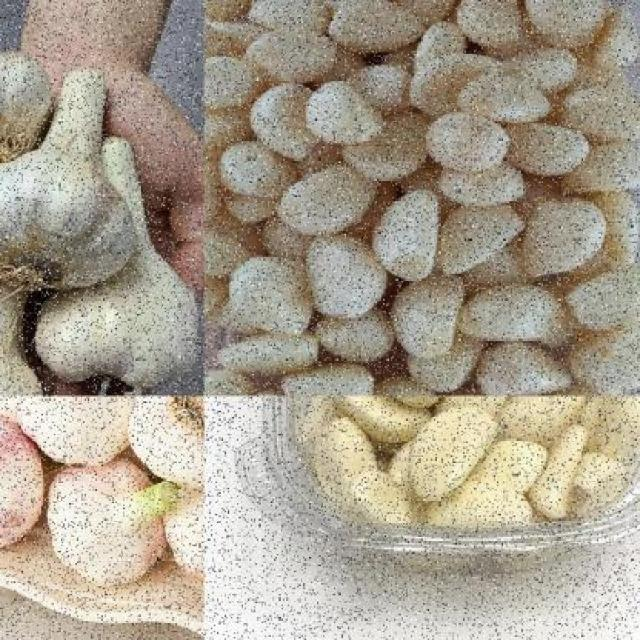garlic: (203, 0, 639, 395), (29, 137, 203, 390), (304, 395, 640, 523), (0, 69, 138, 296), (46, 452, 183, 588), (0, 0, 57, 198), (10, 396, 138, 473), (408, 408, 506, 503), (370, 182, 454, 278), (0, 407, 52, 554), (419, 109, 528, 179), (158, 440, 204, 600), (127, 396, 202, 492), (0, 264, 52, 393), (308, 79, 393, 149)
